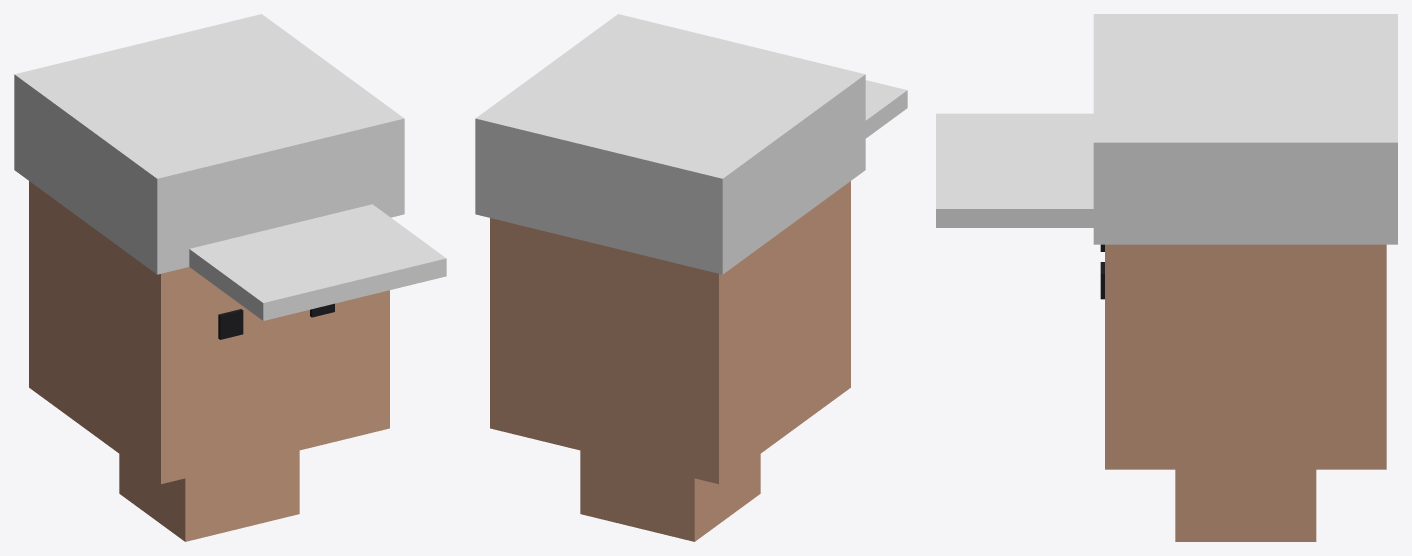
File: j1_cabeza.obj
The picture shows the model from 3 angles, left to right: view 1: azimuth 30°, elevation 25°; view 2: azimuth 150°, elevation 25°; view 3: azimuth 270°, elevation 25°; orthographic projection. The views are drawn at different scales.
Size of the model in its own units: 0.216 by 0.34 by 0.328.
3 materials, 3 textured.
